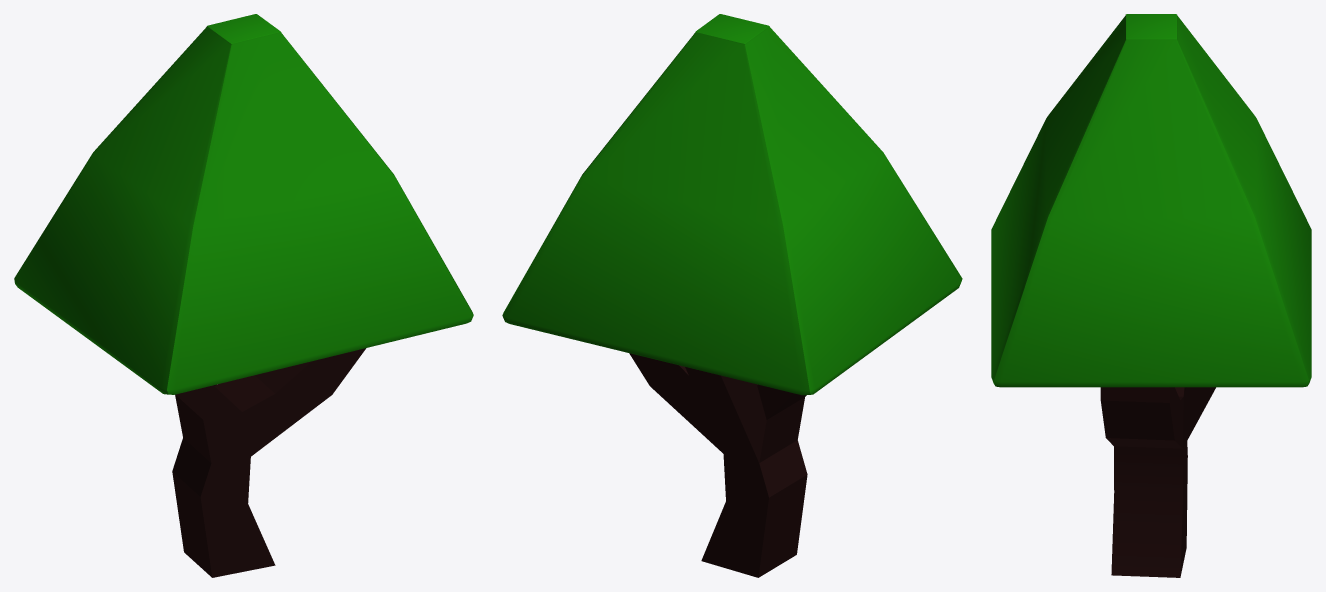
File: tree7.FBX
3 renders of one model, left to right at view 1: azimuth 30°, elevation 25°; view 2: azimuth 150°, elevation 25°; view 3: azimuth 270°, elevation 25°, orthographic. The views are drawn at different scales.
Visible parts, largest first — view 1: Tree7; view 2: Tree7; view 3: Tree7.
Boxes of the visible parts, <box> form: Tree7: <box>14,14,473,577</box>; Tree7: <box>502,14,962,577</box>; Tree7: <box>991,14,1311,577</box>.
Bounding box in the file's own units: 93.75 × 151 × 80.77.
